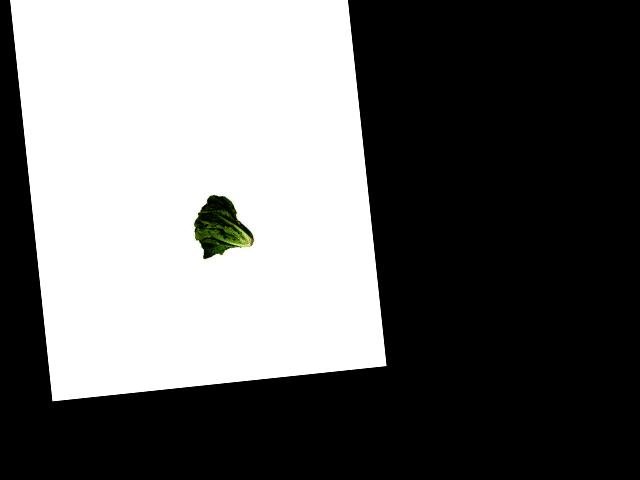lettuce: (188, 190, 258, 261)
